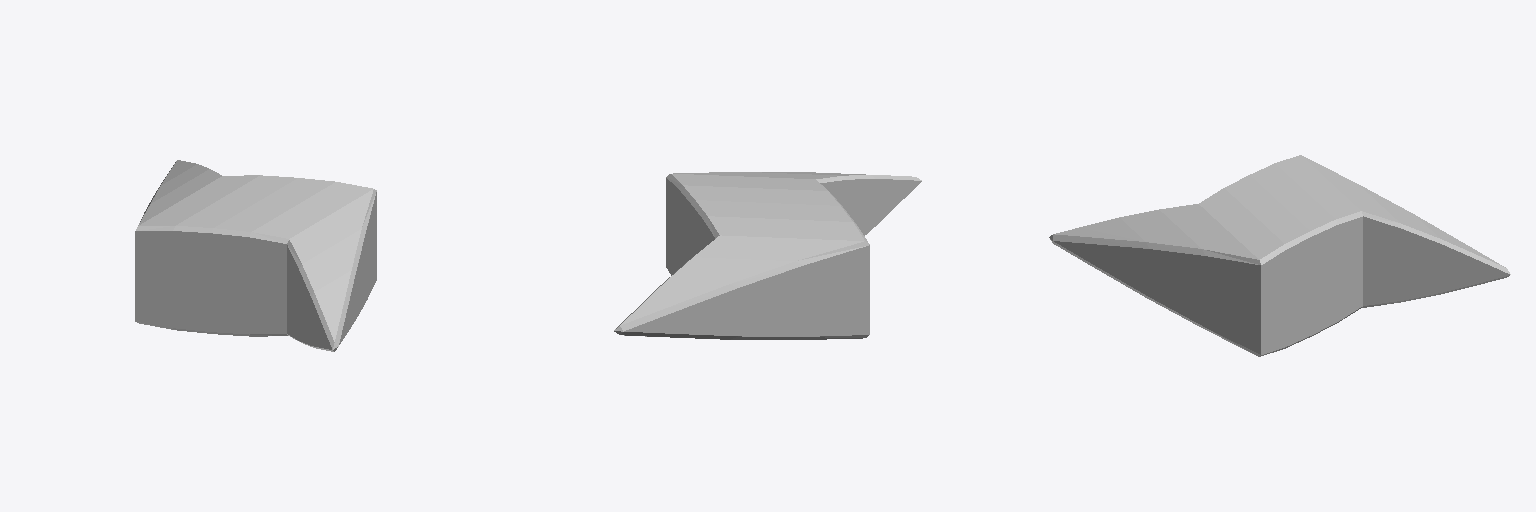
The model's file is lightning.obj.
The picture shows the model from 3 angles: view 1: azimuth 30°, elevation 25°; view 2: azimuth 150°, elevation 25°; view 3: azimuth 270°, elevation 25°; orthographic projection.
Parts seen in each view (by area): view 1: ItemThunder__m_ItemThunder; view 2: ItemThunder__m_ItemThunder; view 3: ItemThunder__m_ItemThunder.
Part boxes in pixels (bbox=[...]): ItemThunder__m_ItemThunder: bbox=[135, 160, 376, 351]; ItemThunder__m_ItemThunder: bbox=[614, 172, 921, 339]; ItemThunder__m_ItemThunder: bbox=[1049, 155, 1510, 356].
Size of the model in its own units: 4.61 by 2.09 by 8.27.